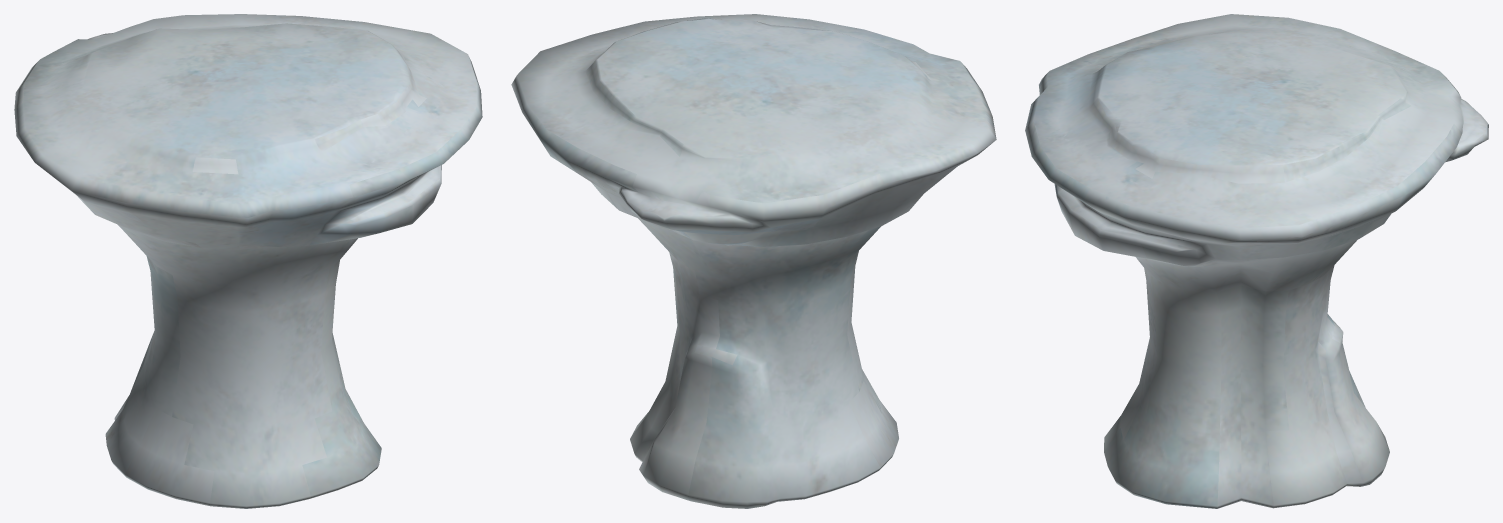
The model's file is P_RockDesert_CliffA05.obj.
3 views of the same model, side by side, from view 1: azimuth 30°, elevation 25°; view 2: azimuth 150°, elevation 25°; view 3: azimuth 270°, elevation 25° (orthographic).
Bounding box in the file's own units: 69.61 × 57.23 × 64.09.
